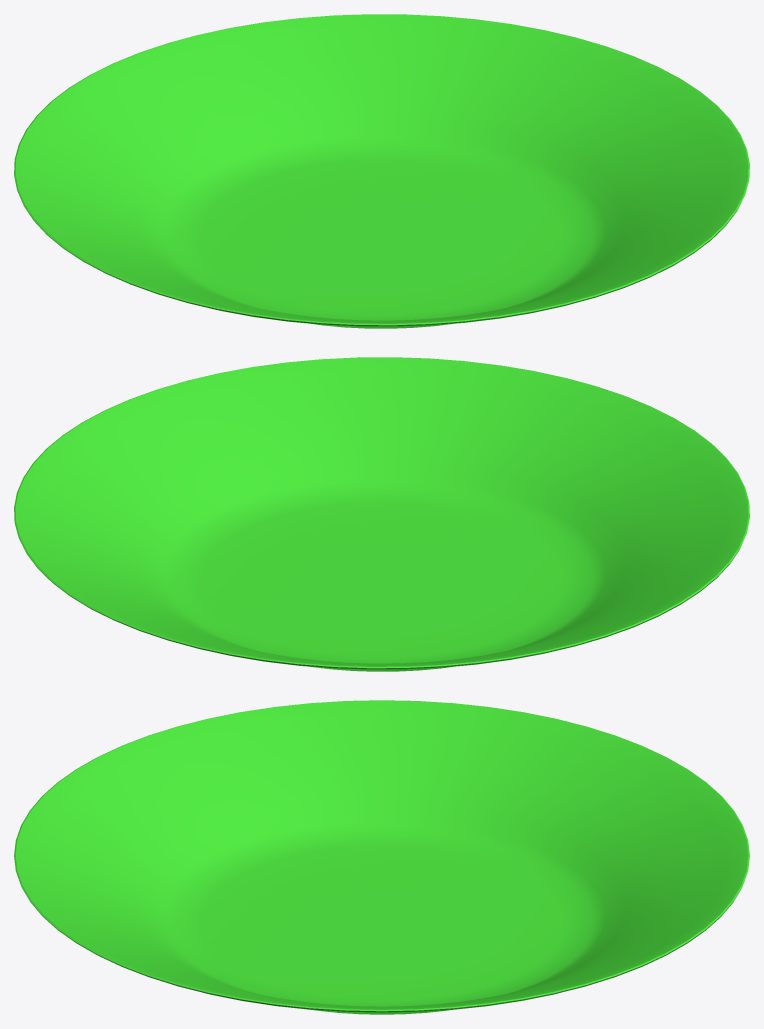
Rendered from Piring.fbx.
3 views of the same model, one above another, from view 1: azimuth 30°, elevation 25°; view 2: azimuth 150°, elevation 25°; view 3: azimuth 270°, elevation 25° (orthographic).
Parts seen in each view (by area): view 1: Sphere; view 2: Sphere; view 3: Sphere.
Part boxes in pixels (left/top/right/bottom): Sphere: left=14, top=14, right=749, bottom=328; Sphere: left=14, top=357, right=749, bottom=671; Sphere: left=14, top=700, right=749, bottom=1014.
Size of the model in its own units: 192 by 20.71 by 192.
